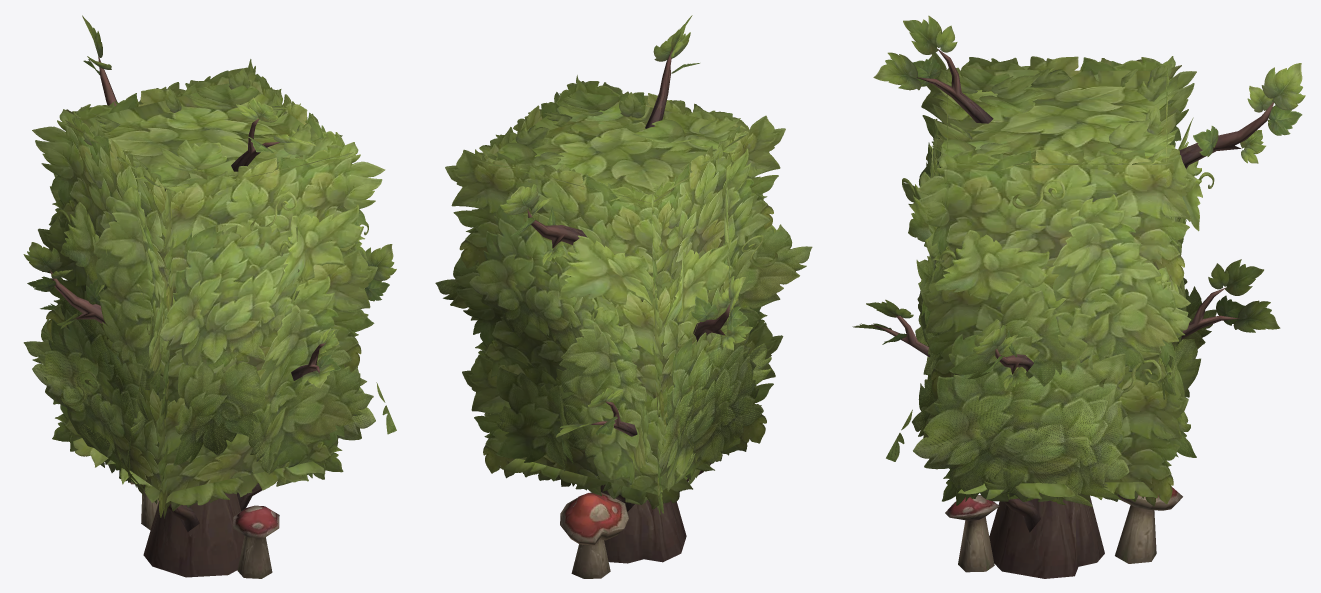
3 views of the same model, side by side, from view 1: azimuth 30°, elevation 25°; view 2: azimuth 150°, elevation 25°; view 3: azimuth 270°, elevation 25° (orthographic). The views are drawn at different scales.
Bounding box in the file's own units: 3.93 × 5.95 × 4.55.
Materials: 3 (3 with a texture image).
